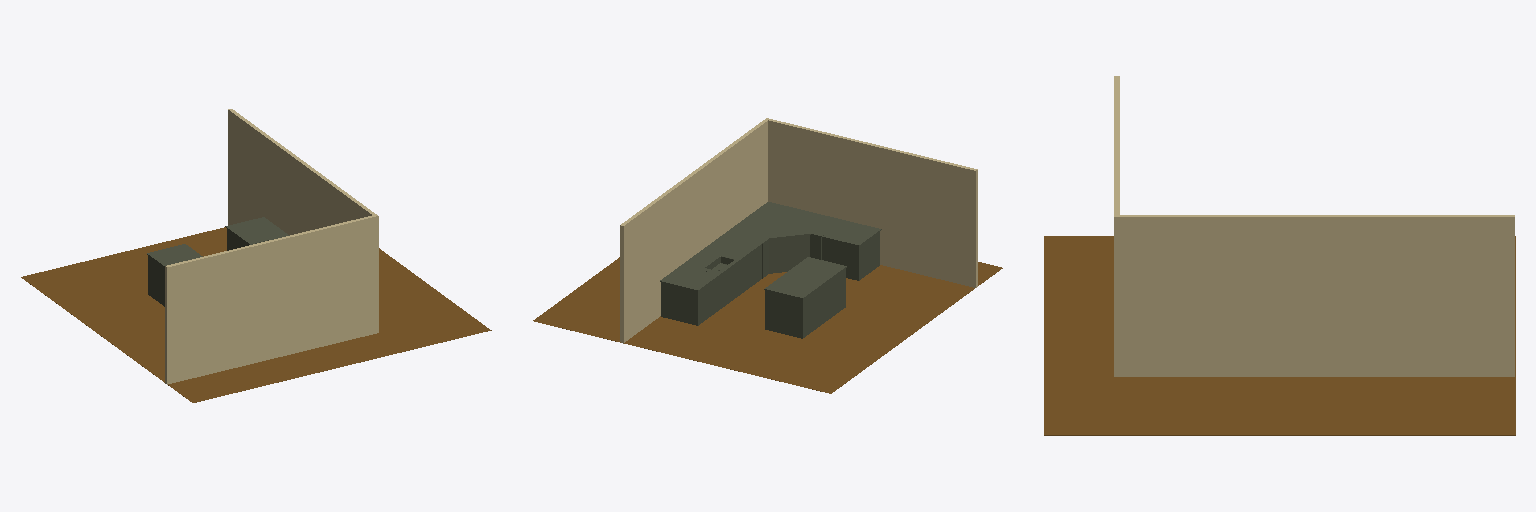
The robot description file, URDF, robot "Kitchen_static":
<?xml version="1.0"?>
<!-- created with Phobos 1.0.1 "Capricious Choutengan" -->
  <robot name="Kitchen_static">

    <link name="cabinets_root">
      <inertial>
        <origin xyz="0 0 0" rpy="0 0 0"/>
        <mass value="0.001"/>
        <inertia ixx="0.001" ixy="0" ixz="0" iyy="0.001" iyz="0" izz="0.001"/>
      </inertial>
      <visual name="Cabinets">
        <origin xyz="-0.45157 -0.20882 0" rpy="0 0 0"/>
        <geometry>
          <mesh filename="package://Kitchen_static/meshes/dae/Cabinets.dae" scale="1.0 1.0 1.0"/>
        </geometry>
      </visual>
      <collision name="Cabinets.000">
        <origin xyz="-0.45157 -0.20882 0" rpy="0 0 0"/>
        <geometry>
          <mesh filename="package://Kitchen_static/meshes/dae/Cabinets.009.dae" scale="1.0 1.0 1.0"/>
        </geometry>
      </collision>
    </link>

    <link name="countertop1_link">
      <inertial>
        <origin xyz="0 0 0" rpy="0 0 0"/>
        <mass value="0.001"/>
        <inertia ixx="0.001" ixy="0" ixz="0" iyy="0.001" iyz="0" izz="0.001"/>
      </inertial>
      <visual name="Countertop_Top1">
        <origin xyz="0 -0.00258 -0.00031" rpy="0 0 0"/>
        <geometry>
          <mesh filename="package://Kitchen_static/meshes/dae/Cube.152.dae" scale="1.0 1.0 1.0"/>
        </geometry>
        <material name="GenericCounterMaterial"/>
      </visual>
      <collision name="Countertop_Top1.000">
        <origin xyz="0 -0.00258 -0.00061" rpy="0 0 0"/>
        <geometry>
          <mesh filename="package://Kitchen_static/meshes/dae/Cube.153.dae" scale="1.0 1.0 1.0"/>
        </geometry>
      </collision>
    </link>

    <link name="countertop_corner_link">
      <inertial>
        <origin xyz="0 0 0" rpy="0 0 0"/>
        <mass value="0.001"/>
        <inertia ixx="0.001" ixy="0" ixz="0" iyy="0.001" iyz="0" izz="0.001"/>
      </inertial>
      <visual name="Countertop_Corner_Base">
        <origin xyz="0 0 0" rpy="0 0 0"/>
        <geometry>
          <mesh filename="package://Kitchen_static/meshes/dae/Cube.154.dae" scale="1.0 1.0 1.0"/>
        </geometry>
        <material name="GenericCounterMaterial"/>
      </visual>
      <collision name="Countertop_Corner_Base.000">
        <origin xyz="0.0007 -0.00555 0.0003" rpy="0 0 0"/>
        <geometry>
          <mesh filename="package://Kitchen_static/meshes/dae/Cube.158.dae" scale="1.0 1.0 1.0"/>
        </geometry>
      </collision>
    </link>

    <link name="countertop_edge_link">
      <inertial>
        <origin xyz="0 0 0" rpy="0 0 0"/>
        <mass value="0.001"/>
        <inertia ixx="0.001" ixy="0" ixz="0" iyy="0.001" iyz="0" izz="0.001"/>
      </inertial>
      <visual name="Countertop_Top.001">
        <origin xyz="0 0 0" rpy="0 0 0"/>
        <geometry>
          <mesh filename="package://Kitchen_static/meshes/dae/Cube.155.dae" scale="1.0 1.0 1.0"/>
        </geometry>
        <material name="GenericCounterMaterial"/>
      </visual>
      <collision name="Countertop_Top.001.000">
        <origin xyz="0 0 6e-05" rpy="0 0 0"/>
        <geometry>
          <mesh filename="package://Kitchen_static/meshes/dae/Cube.156.dae" scale="1.0 1.0 1.0"/>
        </geometry>
      </collision>
    </link>

    <link name="countertop_link">
      <inertial>
        <origin xyz="0 0 0" rpy="0 0 0"/>
        <mass value="0.001"/>
        <inertia ixx="0.001" ixy="0" ixz="0" iyy="0.001" iyz="0" izz="0.001"/>
      </inertial>
      <visual name="Countertop_Top">
        <origin xyz="0 0 0" rpy="0 0 0"/>
        <geometry>
          <mesh filename="package://Kitchen_static/meshes/dae/Cube.142.dae" scale="1.0 1.0 1.0"/>
        </geometry>
        <material name="GenericCounterMaterial"/>
      </visual>
      <collision name="Countertop_Top.col">
        <origin xyz="0 0 0.00015" rpy="0 0 0"/>
        <geometry>
          <mesh filename="package://Kitchen_static/meshes/dae/Cube.143.dae" scale="1.0 1.0 1.0"/>
        </geometry>
      </collision>
    </link>

    <link name="countertop_sink_link">
      <inertial>
        <origin xyz="0 0 0" rpy="0 0 0"/>
        <mass value="0.001"/>
        <inertia ixx="0.001" ixy="0" ixz="0" iyy="0.001" iyz="0" izz="0.001"/>
      </inertial>
      <visual name="Countertop_Sink">
        <origin xyz="0 0 0" rpy="0 0 0"/>
        <geometry>
          <mesh filename="package://Kitchen_static/meshes/dae/Cube.146.dae" scale="1.0 1.0 1.0"/>
        </geometry>
        <material name="GenericCounterMaterial"/>
      </visual>
      <collision name="Countertop_Sink.000">
        <origin xyz="0 0 -0.00261" rpy="0 0 0"/>
        <geometry>
          <mesh filename="package://Kitchen_static/meshes/dae/Cube.147.dae" scale="1.0 1.0 1.0"/>
        </geometry>
      </collision>
    </link>

    <link name="countertop_tall2_link">
      <inertial>
        <origin xyz="0 0 0" rpy="0 0 0"/>
        <mass value="0.001"/>
        <inertia ixx="0.001" ixy="0" ixz="0" iyy="0.001" iyz="0" izz="0.001"/>
      </inertial>
      <visual name="Countertop_Top_Taller2">
        <origin xyz="0 0 0" rpy="0 0 0"/>
        <geometry>
          <mesh filename="package://Kitchen_static/meshes/dae/Cube.008.dae" scale="1.0 1.0 1.0"/>
        </geometry>
        <material name="GenericCounterMaterial"/>
      </visual>
      <collision name="Countertop_Top_Taller2.000">
        <origin xyz="0 0 0.00057" rpy="0 0 0"/>
        <geometry>
          <mesh filename="package://Kitchen_static/meshes/dae/Cube.000.dae" scale="1.0 1.0 1.0"/>
        </geometry>
      </collision>
    </link>

    <link name="countertop_tall_link">
      <inertial>
        <origin xyz="0 0 0" rpy="0 0 0"/>
        <mass value="0.001"/>
        <inertia ixx="0.001" ixy="0" ixz="0" iyy="0.001" iyz="0" izz="0.001"/>
      </inertial>
      <visual name="Countertop_Top_Taller">
        <origin xyz="0 0 0" rpy="0 0 0"/>
        <geometry>
          <mesh filename="package://Kitchen_static/meshes/dae/Cube.157.dae" scale="1.0 1.0 1.0"/>
        </geometry>
        <material name="GenericCounterMaterial"/>
      </visual>
      <collision name="Countertop_Top_Taller.000">
        <origin xyz="0 0 -0.00019" rpy="0 0 0"/>
        <geometry>
          <mesh filename="package://Kitchen_static/meshes/dae/Cube.159.dae" scale="1.0 1.0 1.0"/>
        </geometry>
      </collision>
    </link>

    <link name="root_static">
      <inertial>
        <origin xyz="0 0 0" rpy="0 0 0"/>
        <mass value="0.001"/>
        <inertia ixx="0.001" ixy="0" ixz="0" iyy="0.001" iyz="0" izz="0.001"/>
      </inertial>
      <visual name="Floor">
        <origin xyz="0 0 0" rpy="0 0 0"/>
        <geometry>
          <box size="8.0 8.0 0.002"/>
        </geometry>
        <material name="Floor_Material"/>
      </visual>
      <collision name="Floor">
        <origin xyz="0 0 0" rpy="0 0 0"/>
        <geometry>
          <box size="8.0 8.0 0.002"/>
        </geometry>
      </collision>
    </link>

    <link name="wall1">
      <inertial>
        <origin xyz="0 0 0" rpy="0 0 0"/>
        <mass value="0.001"/>
        <inertia ixx="0.001" ixy="0" ixz="0" iyy="0.001" iyz="0" izz="0.001"/>
      </inertial>
      <visual name="Wall_1">
        <origin xyz="0 0 0" rpy="0 0 0"/>
        <geometry>
          <box size="0.10015 6.70389 3.00596"/>
        </geometry>
        <material name="Wall_material"/>
      </visual>
      <collision name="Wall_1.col">
        <origin xyz="0 0 0" rpy="0 0 0"/>
        <geometry>
          <box size="0.10015 6.70389 3.00596"/>
        </geometry>
      </collision>
    </link>

    <link name="wall2">
      <inertial>
        <origin xyz="0 0 0" rpy="0 0 0"/>
        <mass value="0.001"/>
        <inertia ixx="0.001" ixy="0" ixz="0" iyy="0.001" iyz="0" izz="0.001"/>
      </inertial>
      <visual name="Wall_2">
        <origin xyz="0 0 0" rpy="0 0 0"/>
        <geometry>
          <box size="5.65911 0.10015 3.00596"/>
        </geometry>
        <material name="Wall_material"/>
      </visual>
      <collision name="Wall_2">
        <origin xyz="0 0 0" rpy="0 0 0"/>
        <geometry>
          <box size="5.65911 0.10015 3.00596"/>
        </geometry>
      </collision>
    </link>

    <joint name="cabinets_root" type="fixed">
      <origin xyz="1.23355 0.35459 2.3706" rpy="0 0 0"/>
      <parent link="root_static"/>
      <child link="cabinets_root"/>
    </joint>

    <joint name="countertop1_link" type="fixed">
      <origin xyz="1.04436 -0.18407 0.90913" rpy="0 0 0"/>
      <parent link="root_static"/>
      <child link="countertop1_link"/>
    </joint>

    <joint name="countertop_corner_link" type="fixed">
      <origin xyz="0.63422 -1.78146 0.44381" rpy="0 0 -3.14159"/>
      <parent link="root_static"/>
      <child link="countertop_corner_link"/>
    </joint>

    <joint name="countertop_edge_link" type="fixed">
      <origin xyz="-0.95636 -2.19209 0.90906" rpy="0 0 0"/>
      <parent link="root_static"/>
      <child link="countertop_edge_link"/>
    </joint>

    <joint name="countertop_link" type="fixed">
      <origin xyz="1.04436 1.80656 0.90913" rpy="0 0 0"/>
      <parent link="root_static"/>
      <child link="countertop_link"/>
    </joint>

    <joint name="countertop_sink_link" type="fixed">
      <origin xyz="1.04357 0.81118 0.90952" rpy="0 0 3.14154"/>
      <parent link="root_static"/>
      <child link="countertop_sink_link"/>
    </joint>

    <joint name="countertop_tall2_link" type="fixed">
      <origin xyz="-1.41531 1.20516 0.92078" rpy="0 0 0"/>
      <parent link="root_static"/>
      <child link="countertop_tall2_link"/>
    </joint>

    <joint name="countertop_tall_link" type="fixed">
      <origin xyz="-1.41586 0.20737 0.92078" rpy="0 0 0"/>
      <parent link="root_static"/>
      <child link="countertop_tall_link"/>
    </joint>

    <joint name="wall1" type="fixed">
      <origin xyz="1.60982 0.64096 1.49534" rpy="0 0 0"/>
      <parent link="root_static"/>
      <child link="wall1"/>
    </joint>

    <joint name="wall2" type="fixed">
      <origin xyz="-1.16959 -2.76415 1.49534" rpy="0 0 0"/>
      <parent link="root_static"/>
      <child link="wall2"/>
    </joint>

    <material name="Floor_Material">
      <color rgba="0.51303 0.37541 0.19019 1.0"/>
    </material>

    <material name="GenericCounterMaterial">
      <color rgba="0.36791 0.38159 0.31374 1.0"/>
    </material>

    <material name="Wall_material">
      <color rgba="0.8 0.74126 0.58046 1.0"/>
    </material>

  </robot>

--- Facts derived from the render (not from the file) ---
Views: 3 orthographic renders of the robot side by side, from view 1: azimuth 30°, elevation 25°; view 2: azimuth 150°, elevation 25°; view 3: azimuth 270°, elevation 25°.
Model Kitchen_static with 11 links and 10 joints (10 fixed), rooted at root_static, posed all joints at 0.
Visible links, largest first — view 1: wall2, root_static, wall1, countertop_tall2_link, countertop_link; view 2: root_static, wall2, wall1, countertop_corner_link, countertop_tall2_link, countertop_link, countertop_edge_link, countertop_tall_link, countertop_sink_link, countertop1_link; view 3: wall1, root_static, wall2.
Boxes of the visible links, x1,y1,x2,y2 form: wall2: [165, 214, 378, 384]; root_static: [21, 227, 491, 402]; wall1: [228, 109, 375, 234]; countertop_tall2_link: [147, 244, 202, 306]; countertop_link: [225, 217, 284, 250]; root_static: [533, 257, 1002, 393]; wall2: [765, 118, 977, 287]; wall1: [620, 120, 767, 343]; countertop_corner_link: [725, 202, 843, 278]; countertop_tall2_link: [764, 273, 824, 338]; countertop_link: [660, 265, 719, 325]; countertop_edge_link: [822, 220, 881, 280]; countertop_tall_link: [787, 257, 846, 322]; countertop_sink_link: [682, 249, 741, 309]; countertop1_link: [704, 234, 762, 293]; wall1: [1120, 215, 1514, 376]; root_static: [1044, 236, 1515, 435]; wall2: [1114, 76, 1119, 376].
Size in the robot's own frame: 8 by 8 by 3.01 metres.
7 mesh visuals loaded from 8 distinct referenced files (7 Collada DAE); not drawn: 1 (reference not matched to a file when rendering).